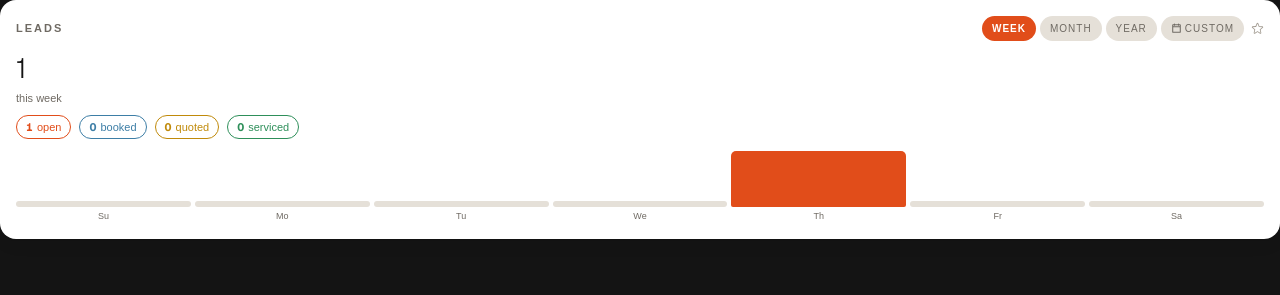
TrendCard › CUSTOM reveals a start/end date-range picker
Click the button "CUSTOM": (1202, 28) [1161, 16, 1244, 41]
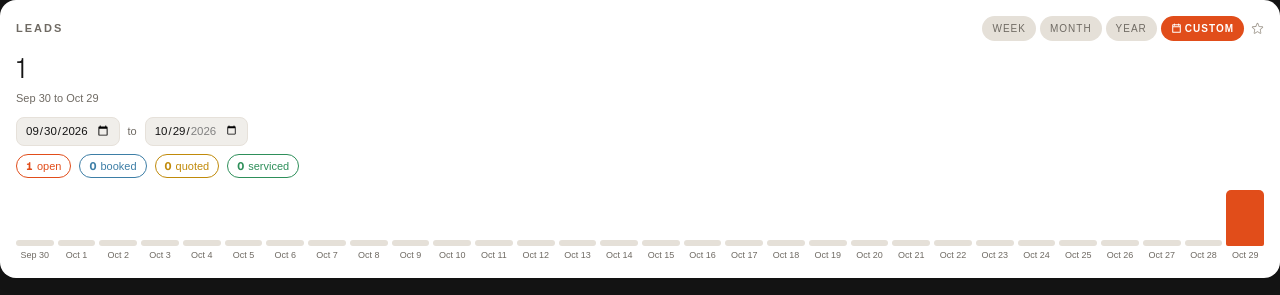
Check: the date field named "Start date" is shown, box [16, 116, 120, 146]
Check: the date field named "End date" is shown, box [145, 116, 248, 146]
